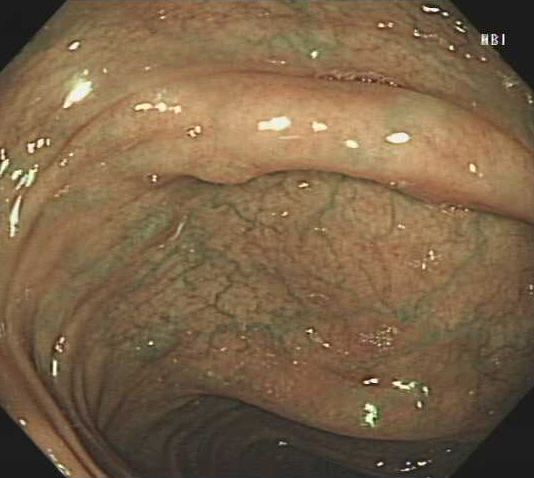others: (176, 142, 261, 189)
